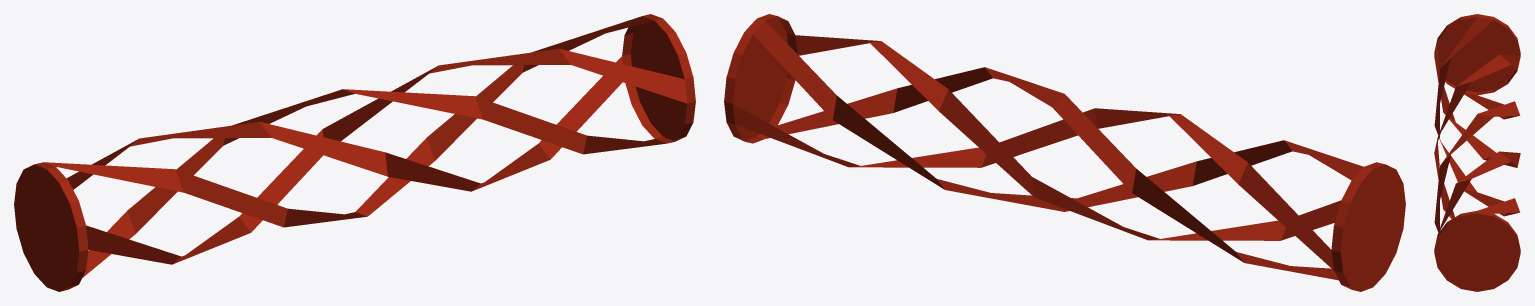
File: twister.glb
3 renders of one model, left to right at view 1: azimuth 30°, elevation 25°; view 2: azimuth 150°, elevation 25°; view 3: azimuth 270°, elevation 25°, orthographic. The views are drawn at different scales.
Visible parts, largest first — view 1: Twister; view 2: Twister; view 3: Twister.
Boxes of the visible parts, x1,y1,x2,y2 form: Twister: (14,14,695,291); Twister: (724,14,1405,291); Twister: (1434,14,1520,291).
Size of the model in its own units: 3.76 by 0.6896 by 0.6896.
Materials: 1 (1 with a texture image).
